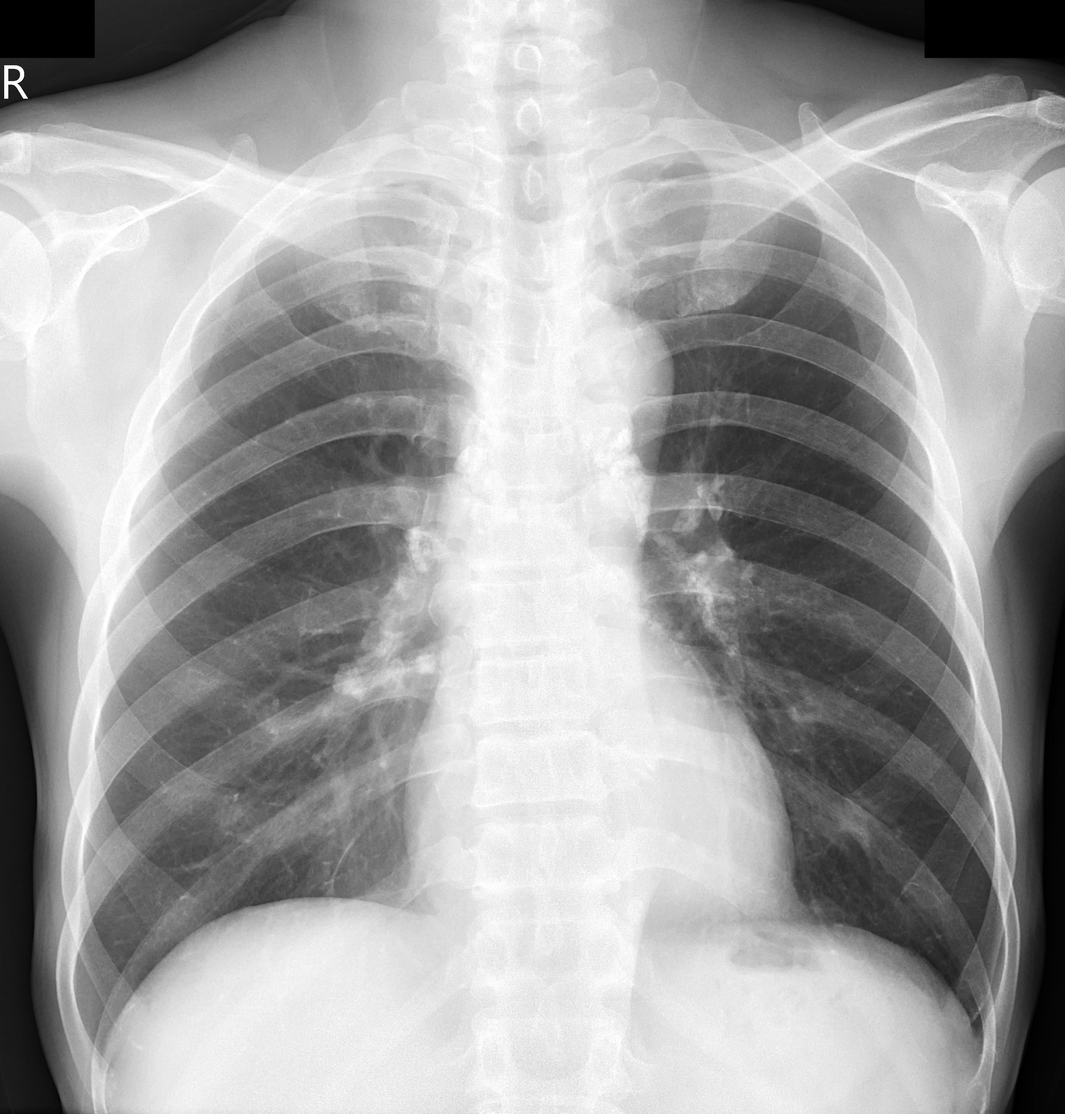Aortic enlargement: (542, 300, 677, 446)
Pleural thickening: (297, 171, 442, 198), (644, 148, 760, 171)
